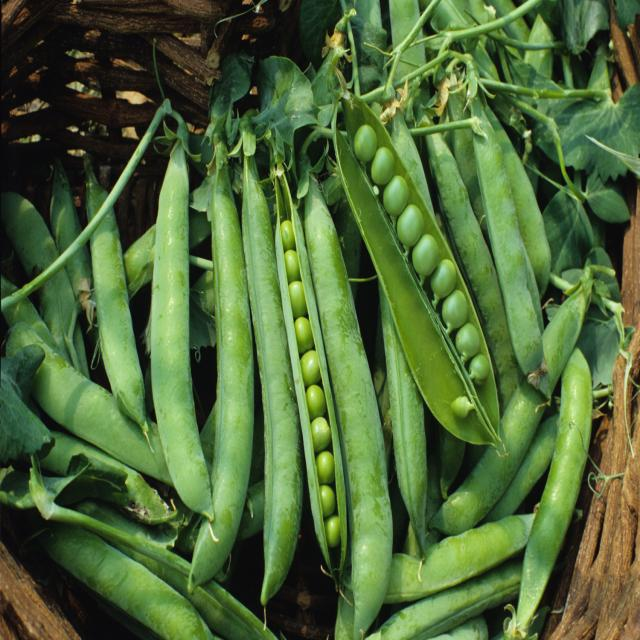pea: (283, 229, 341, 554), (397, 199, 469, 335), (352, 121, 406, 216)
